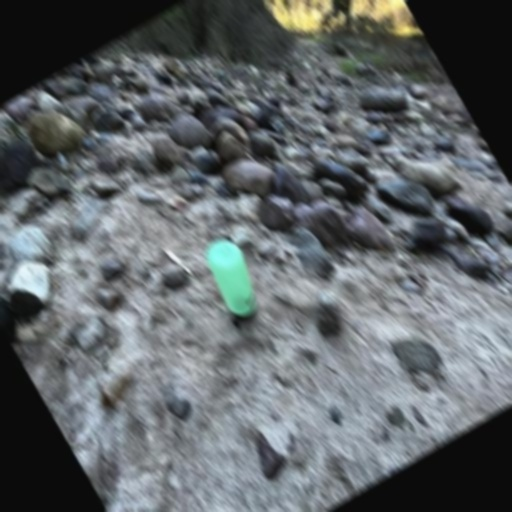bottle: (193, 233, 273, 328)
